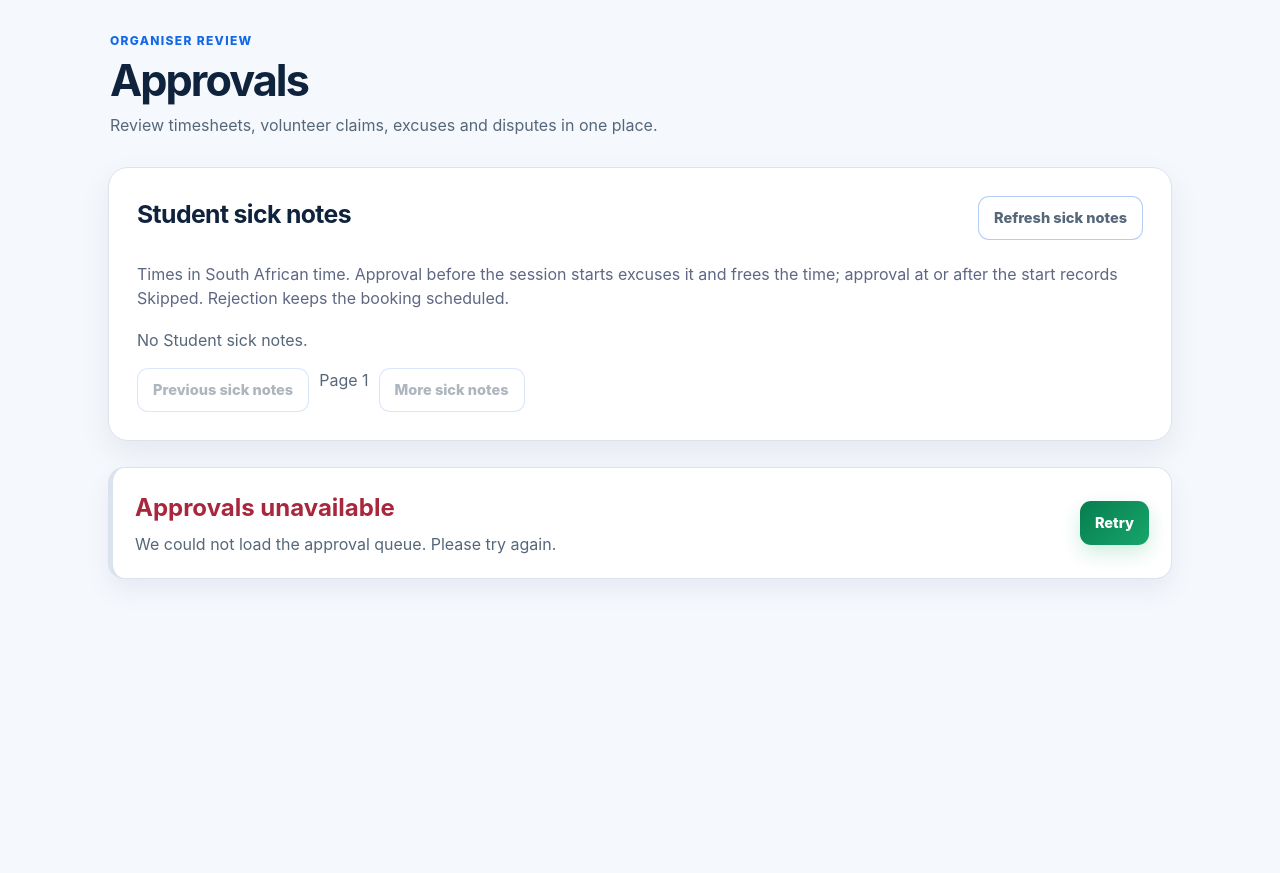
Scenario: OrganiserApprovals › shows a retry state when the approval API fails
Expected: the heading "Approvals unavailable" is shown, left=135, top=494, right=395, bottom=522
Step 1. Click the button "Retry" → (1114, 524), box left=1080, top=502, right=1149, bottom=546
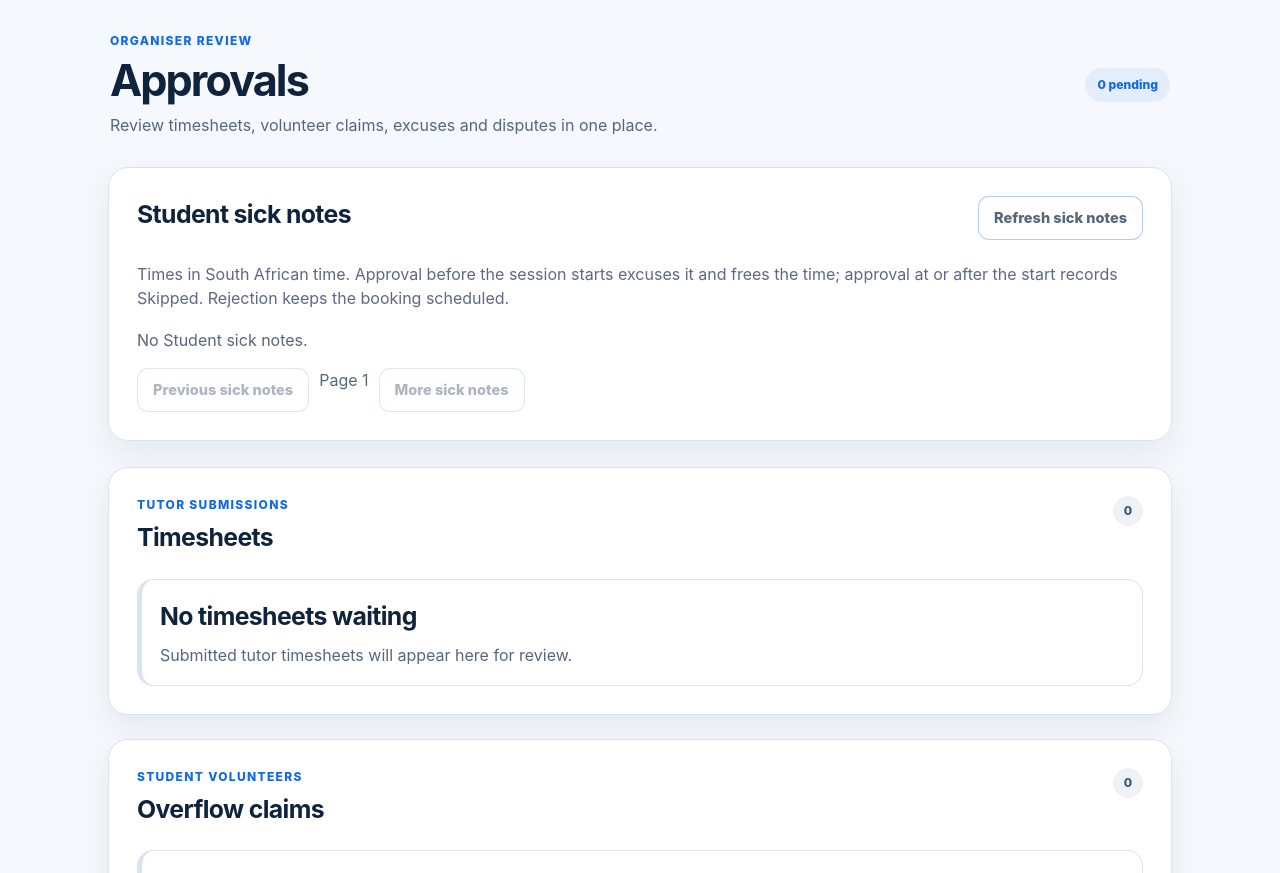
Expected: the heading "No timesheets waiting" is shown, left=160, top=601, right=417, bottom=631
